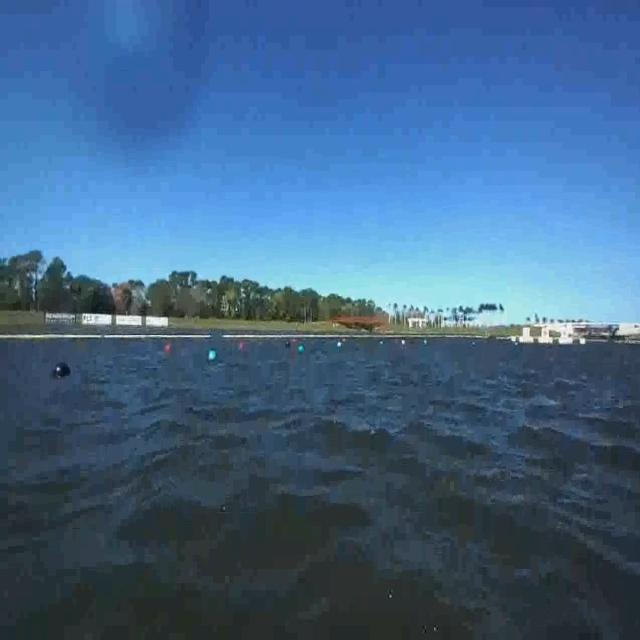black-buoy: (53, 362, 73, 377)
green-buoy: (208, 349, 218, 361)
red-buoy: (164, 344, 170, 354)
